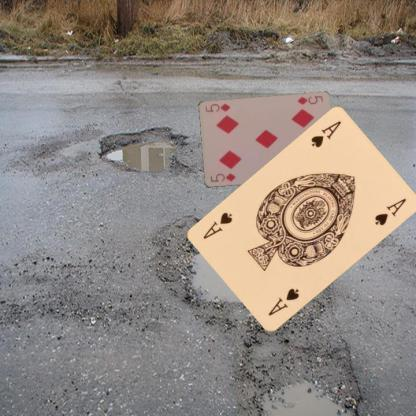5d: (294, 93, 324, 107), (207, 171, 237, 183)
As: (266, 285, 300, 318), (309, 119, 342, 150)
